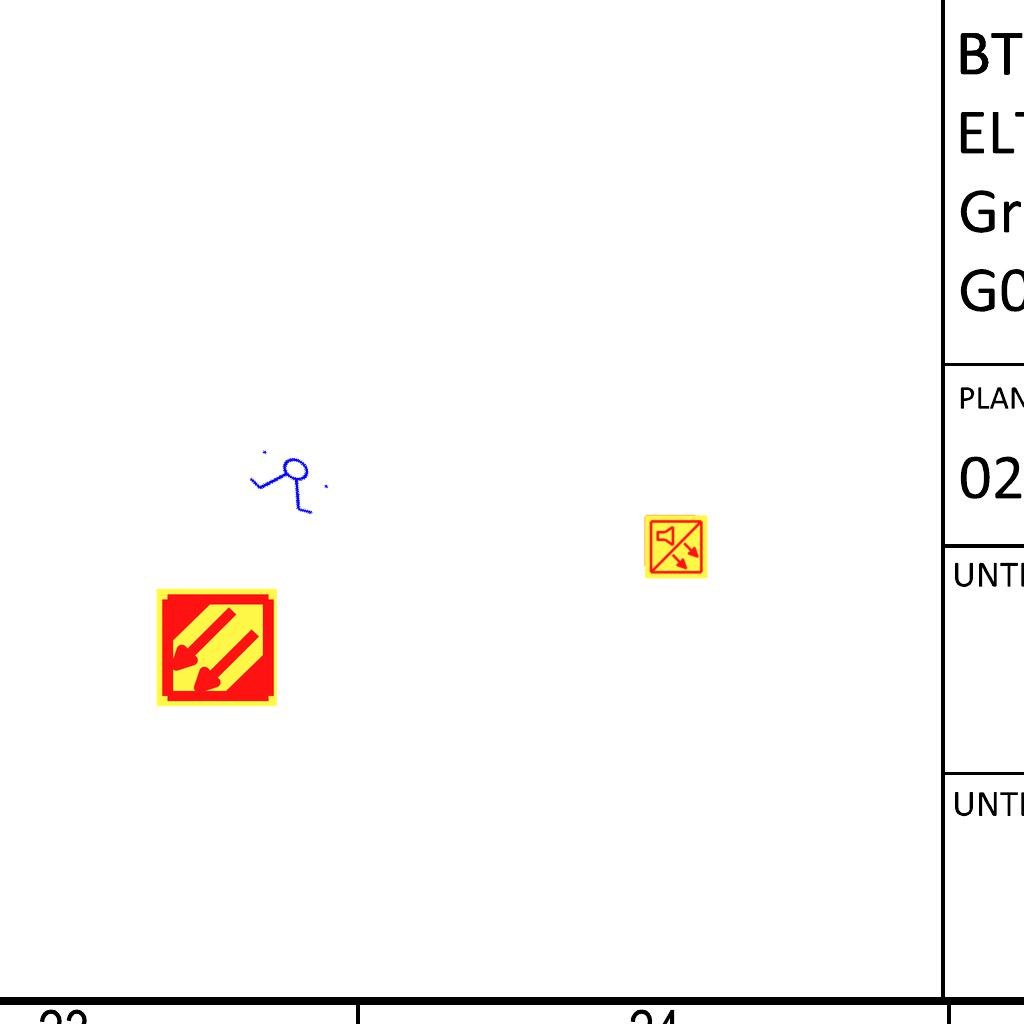ASR_Ansaugrauchmelder: (154, 585, 279, 710)
OKW_Multisensormelder_(Kombination_optischer_Rauch-Kahlenmonoxid_Waerme-Melder): (643, 514, 709, 580)
Serienschalter: (241, 439, 339, 523)
